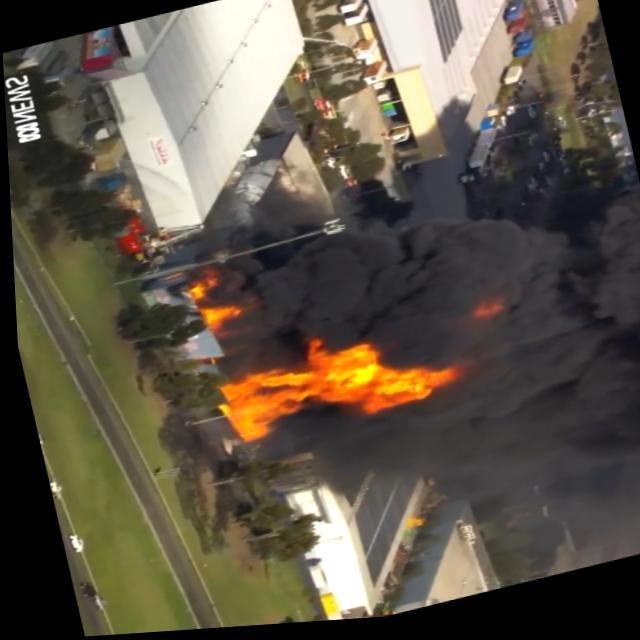fire: (205, 305, 482, 459), (196, 299, 256, 331), (182, 274, 218, 300)
